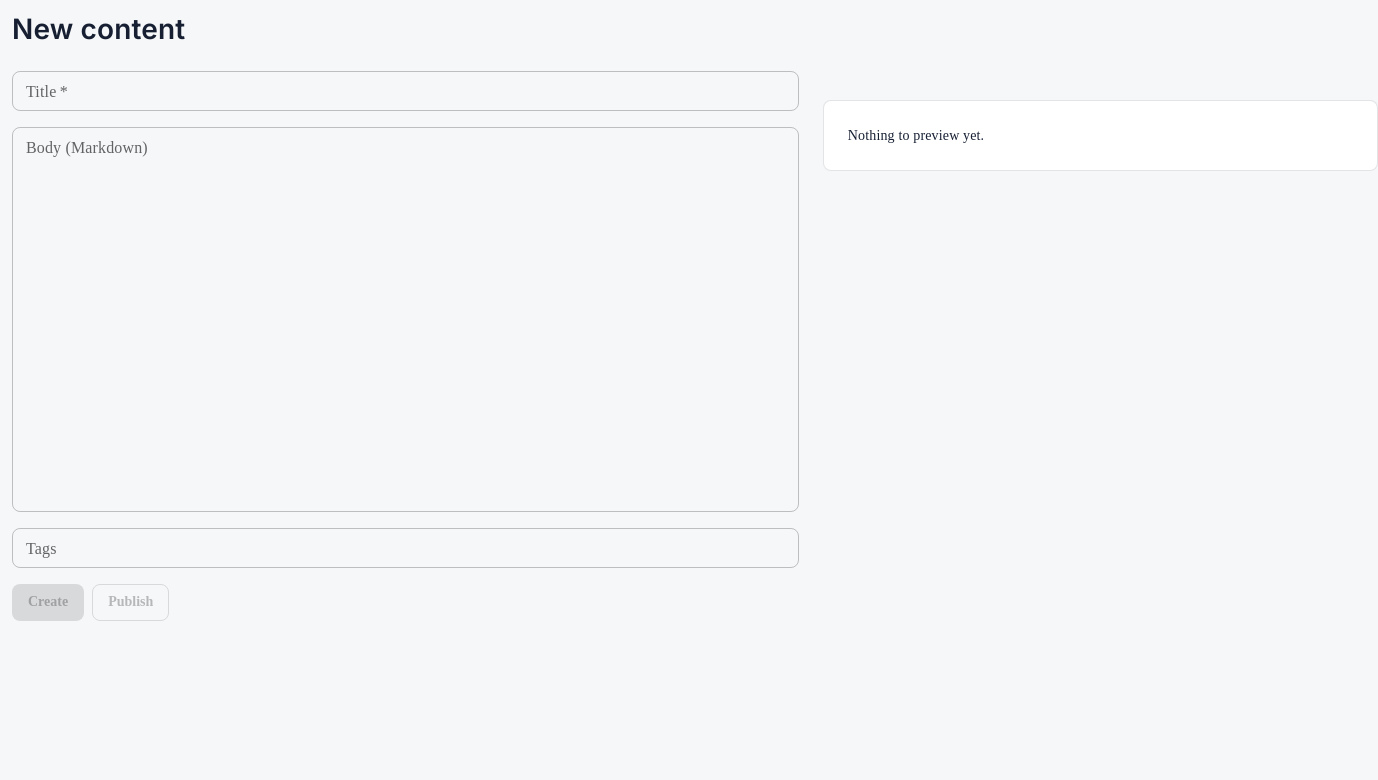
ContentEditorScreen mutation feedback (global snackbar) › a successful Create shows "Saved" and routes to the new item
Type "New Piece" into the field labelled "Title *" at [405, 91], box [12,71,799,111]
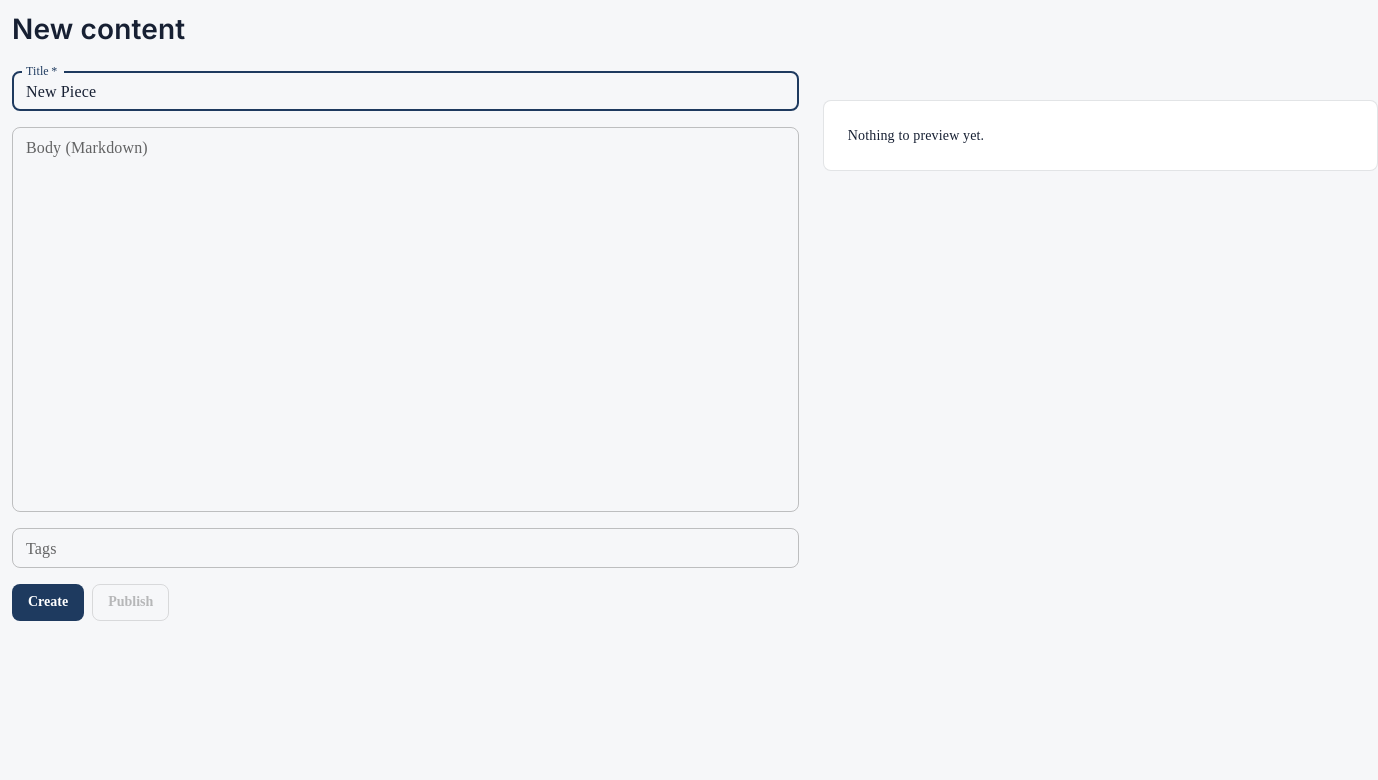
Click the button "Create" at [48, 602], box [12,584,84,620]
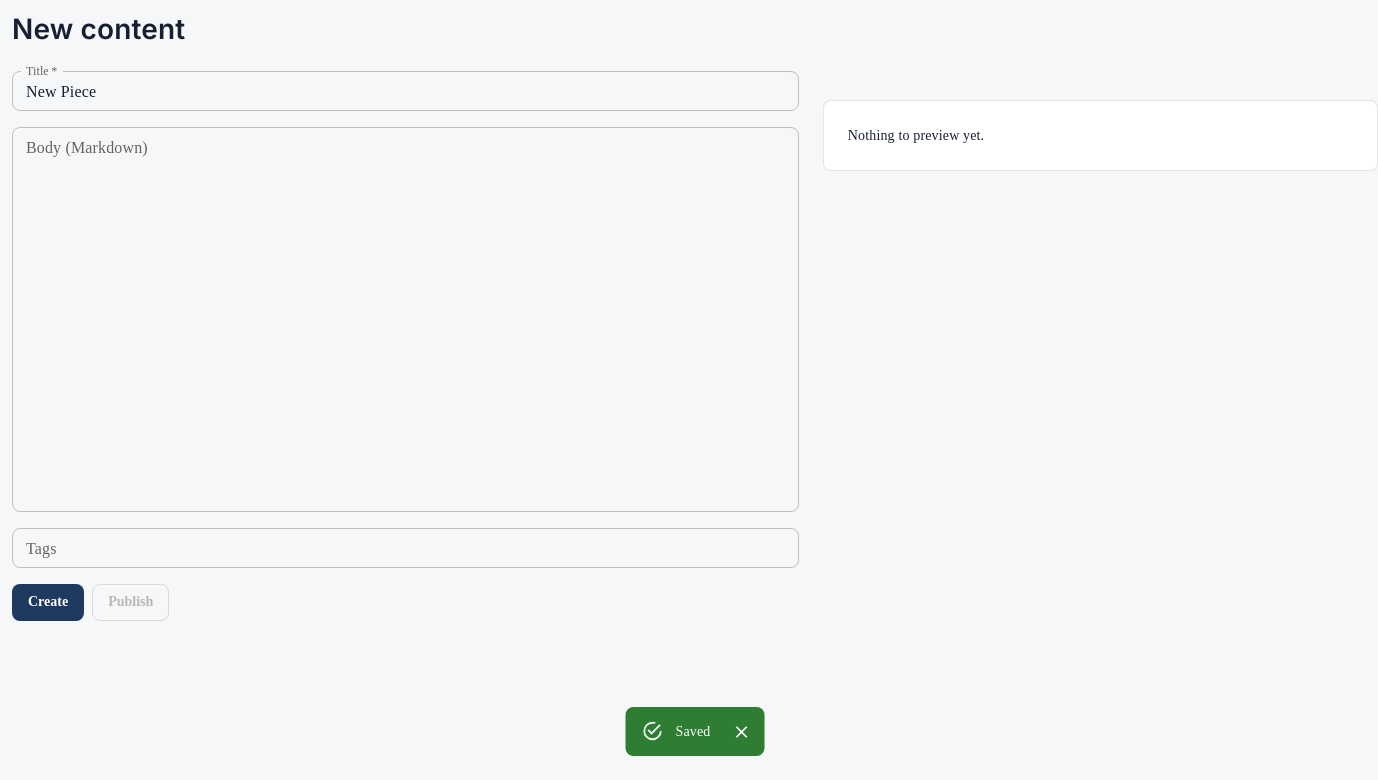
Result: the message reads "Saved" at [676,724,710,739]
